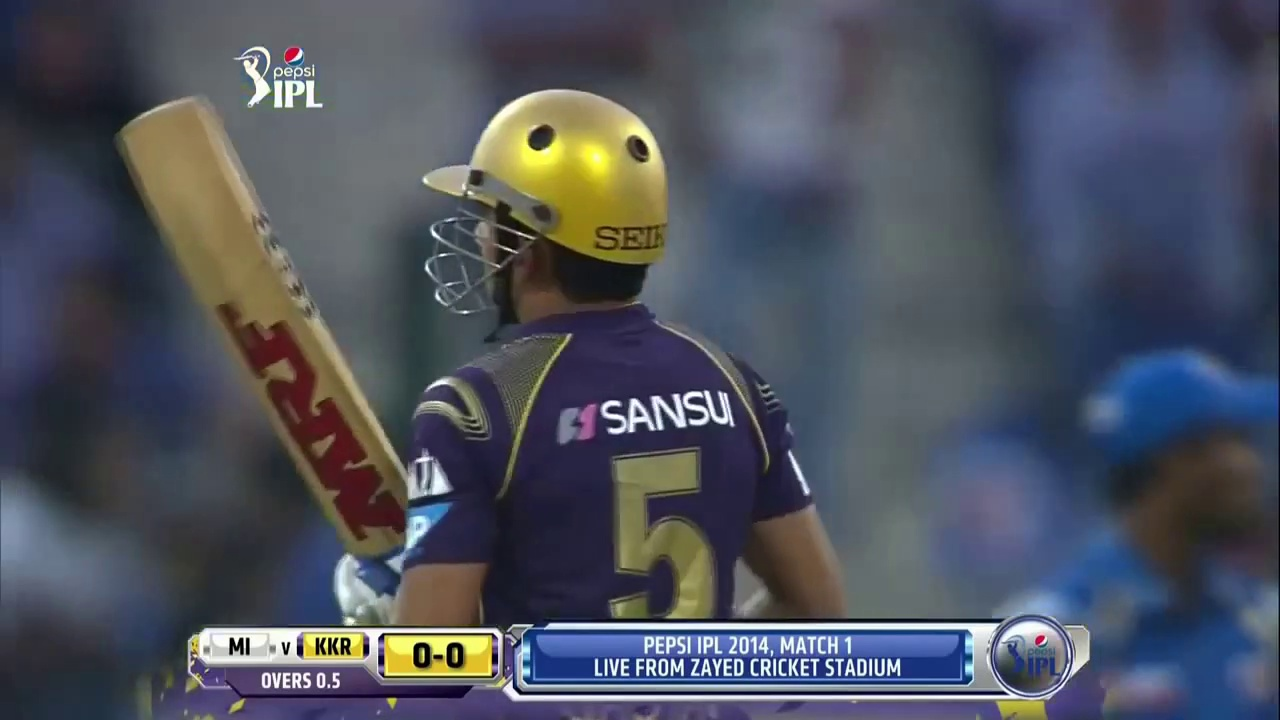bat: (107, 111, 407, 471)
